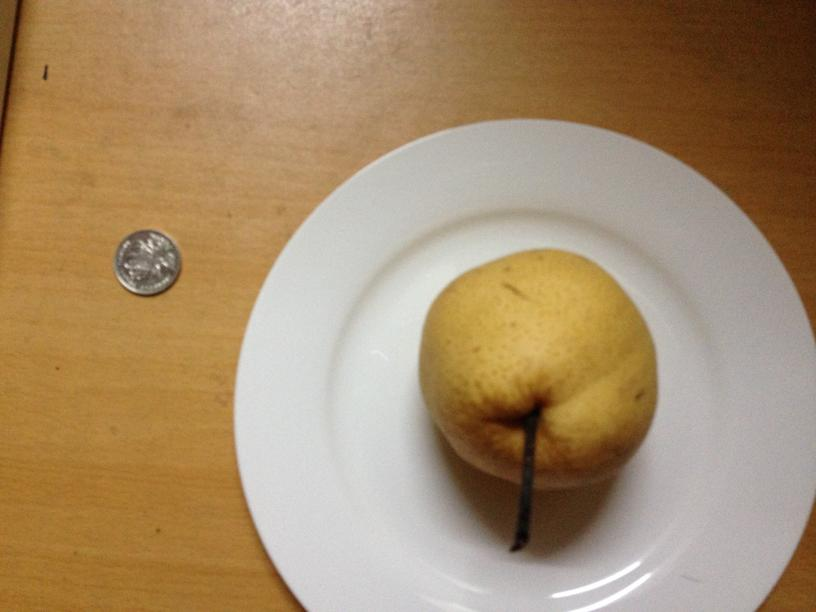coin: (114, 228, 180, 297)
pear: (421, 246, 660, 486)
